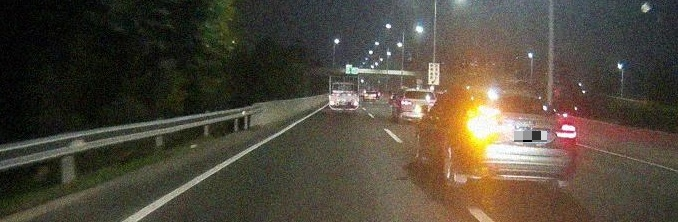L_light: (469, 120, 499, 135)
R_light: (555, 124, 577, 139)
T_light: (510, 94, 527, 99)
night-left: (459, 88, 579, 189)
plate_1: (514, 131, 547, 142)
